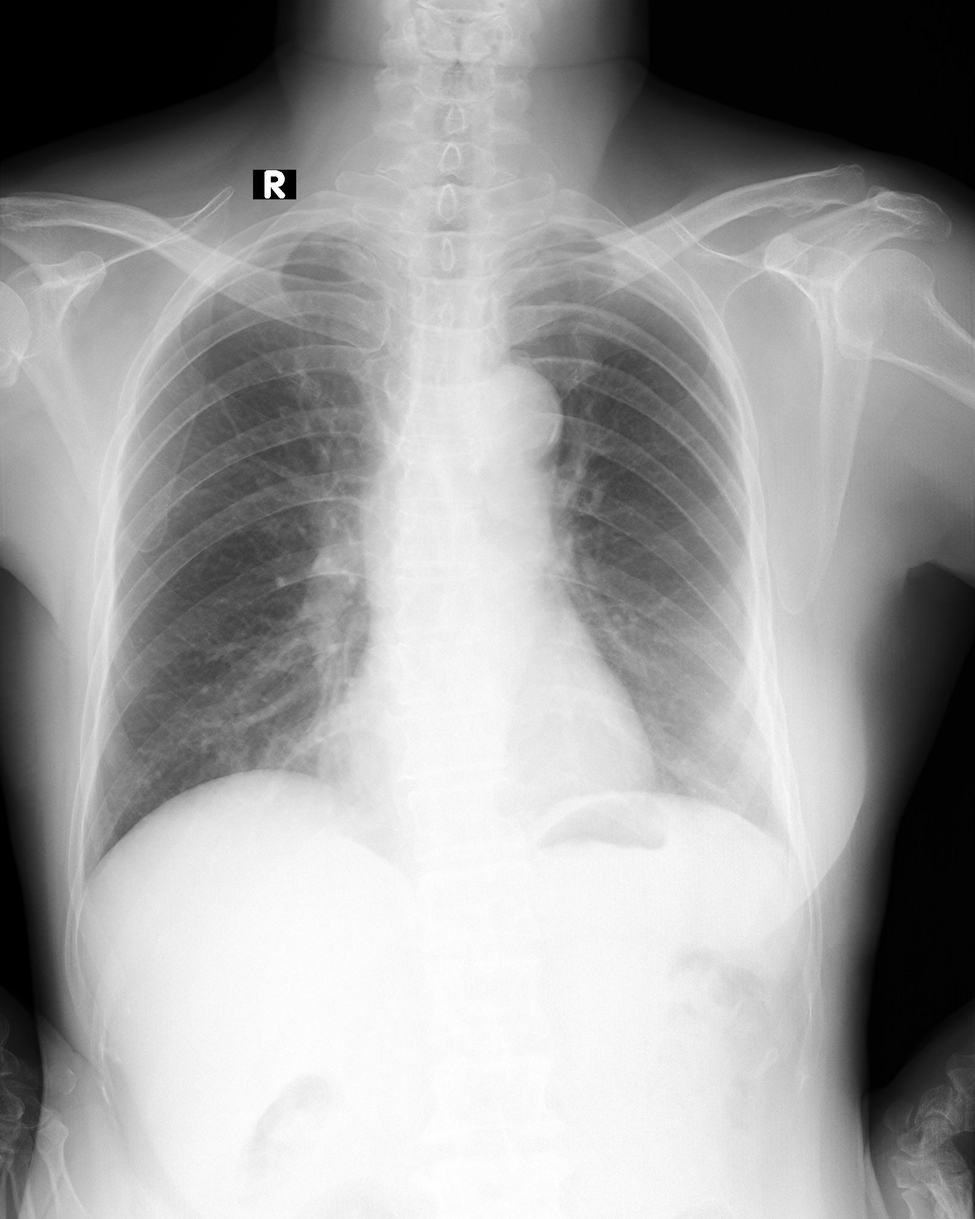Aortic enlargement: (469, 360, 564, 495)
